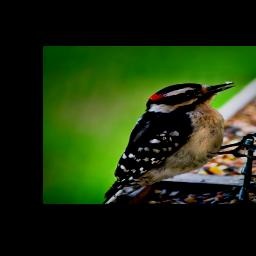Woodpecker: (103, 82, 256, 204)
